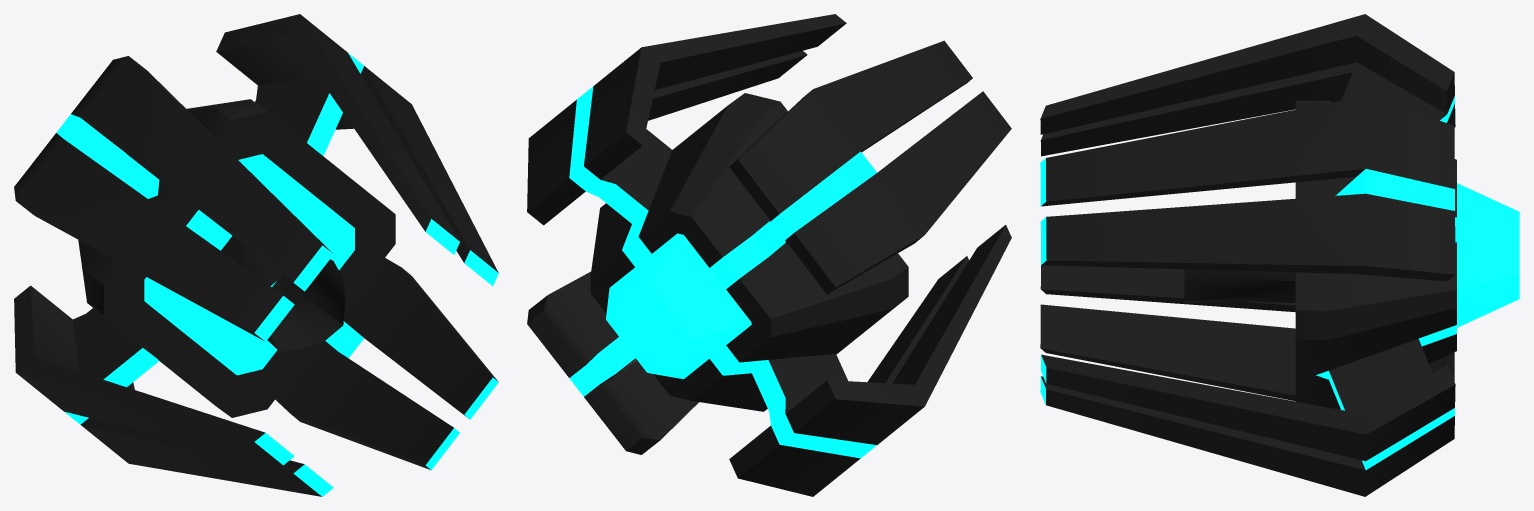
File: drone_backpart.fbx
3 renders of one model, left to right at view 1: azimuth 30°, elevation 25°; view 2: azimuth 150°, elevation 25°; view 3: azimuth 270°, elevation 25°, orthographic.
Visible parts, largest first — view 1: polySurface1; view 2: polySurface1; view 3: polySurface1.
Boxes of the visible parts, left/top/right/bottom form: polySurface1: left=14, top=14, right=498, bottom=496; polySurface1: left=527, top=14, right=1011, bottom=496; polySurface1: left=1040, top=14, right=1519, bottom=496.
Size of the model in its own units: 1.05 by 1.03 by 1.12.
